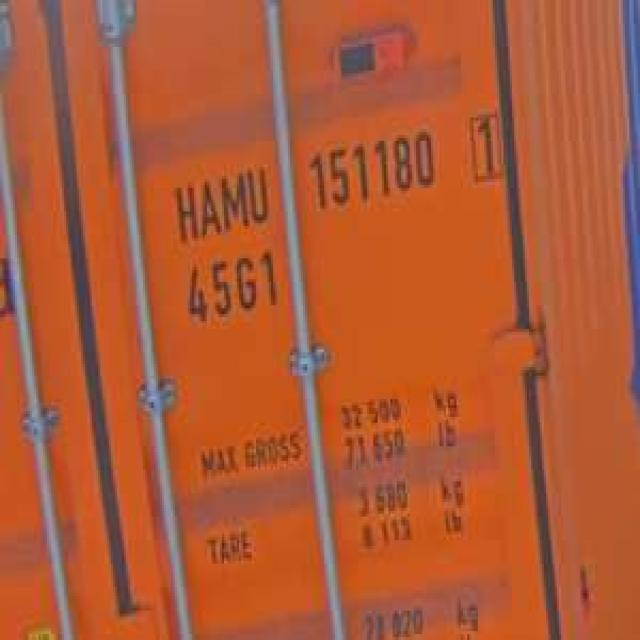dv: (461, 102, 508, 190)
owner: (167, 158, 275, 244)
serial: (305, 124, 442, 220)
size: (168, 253, 294, 325)
